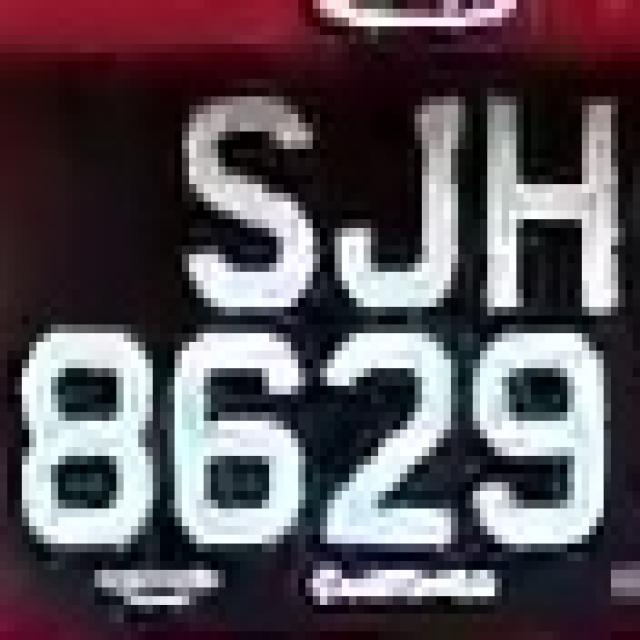2: (298, 289, 458, 570)
6: (160, 307, 320, 552)
8: (15, 289, 160, 596)
9: (444, 289, 626, 596)
H: (480, 61, 618, 342)
J: (312, 62, 472, 324)
S: (175, 79, 320, 342)
